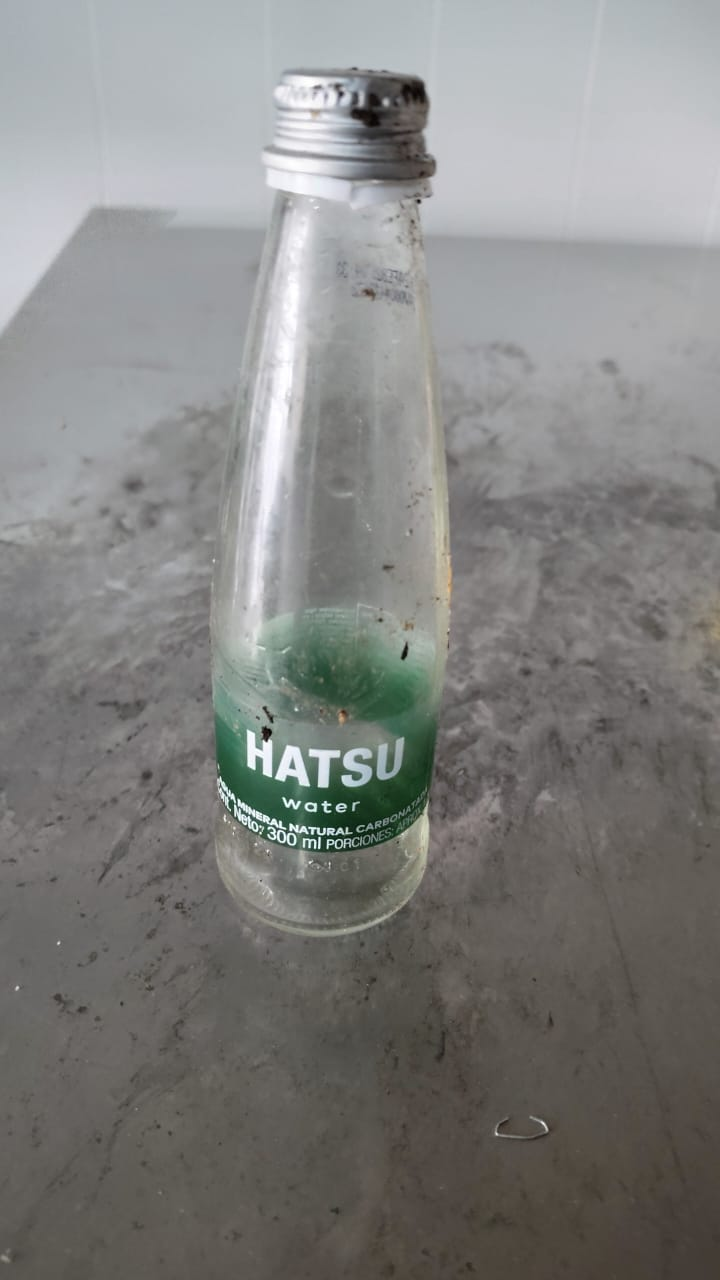Vidrio: (209, 68, 450, 934)
